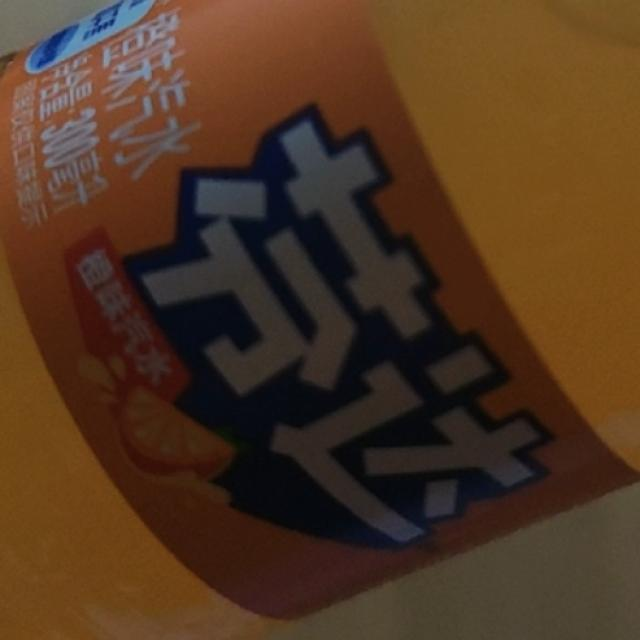orange: (57, 99, 557, 568)
